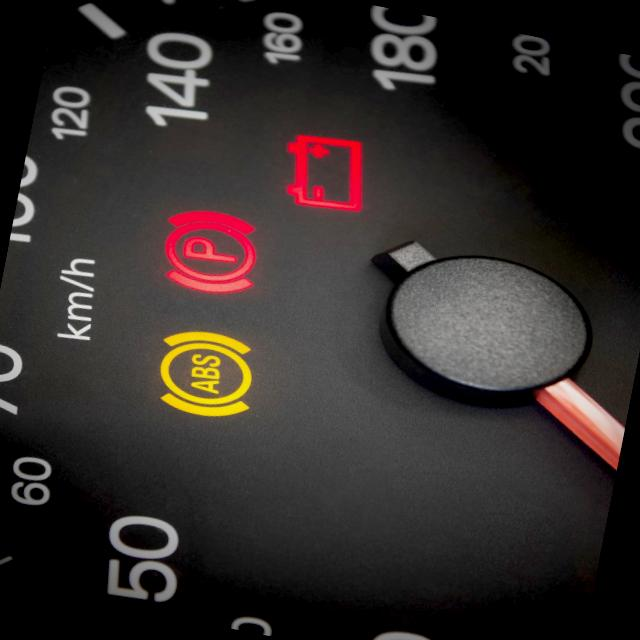kontrolka: (140, 312, 276, 437), (146, 190, 280, 310), (274, 118, 387, 222)
